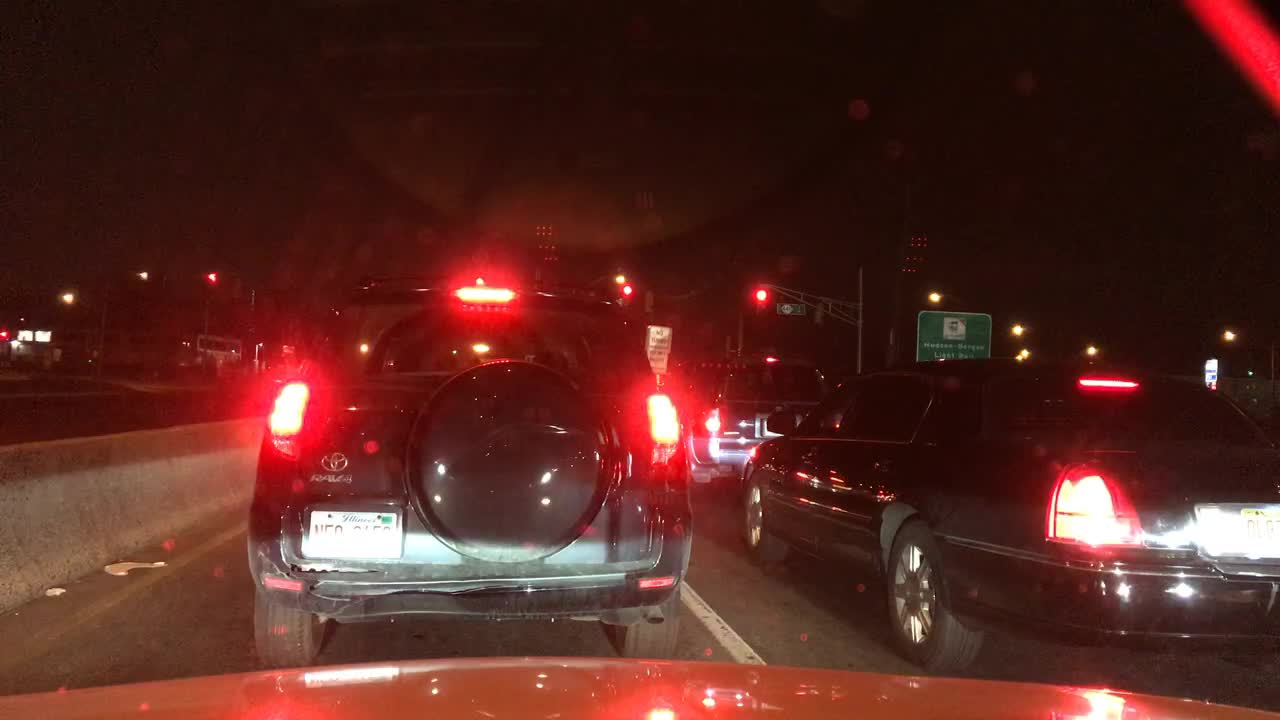car: (244, 283, 693, 667), (736, 358, 1279, 671), (647, 352, 829, 494)
traffic light: (754, 287, 768, 301), (203, 272, 218, 283), (620, 284, 632, 296), (0, 326, 8, 338)
traffic sign: (914, 308, 993, 363), (643, 325, 674, 372), (883, 136, 907, 160), (1203, 360, 1218, 384), (907, 253, 925, 273), (779, 304, 806, 316), (908, 234, 929, 247)
